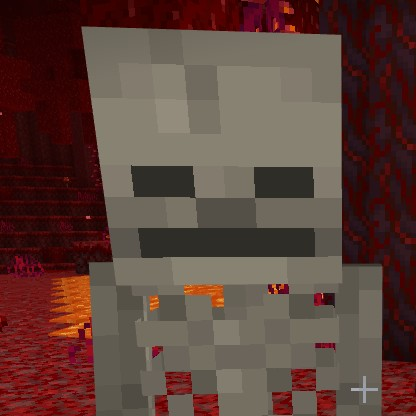skeleton: (78, 23, 380, 398)
